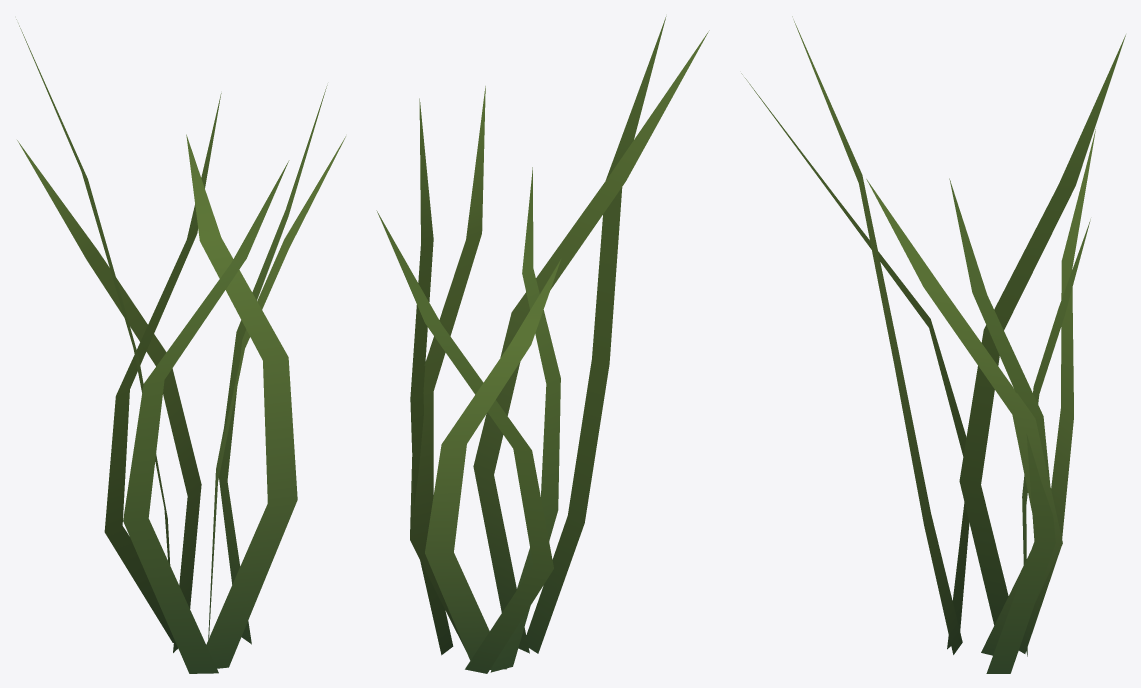
Rendered from water.eelgrass.green.glb.
3 renders of one model, left to right at view 1: azimuth 30°, elevation 25°; view 2: azimuth 150°, elevation 25°; view 3: azimuth 270°, elevation 25°, orthographic. The views are drawn at different scales.
Parts seen in each view (by area): view 1: water_eelgrass_green; view 2: water_eelgrass_green; view 3: water_eelgrass_green.
Part boxes in pixels (box(x1,y1,x2,y2)): water_eelgrass_green: box(16, 19, 345, 673); water_eelgrass_green: box(376, 16, 709, 673); water_eelgrass_green: box(741, 16, 1125, 673).
Bounding box in the file's own units: 0.2547 × 0.6589 × 0.3981.
